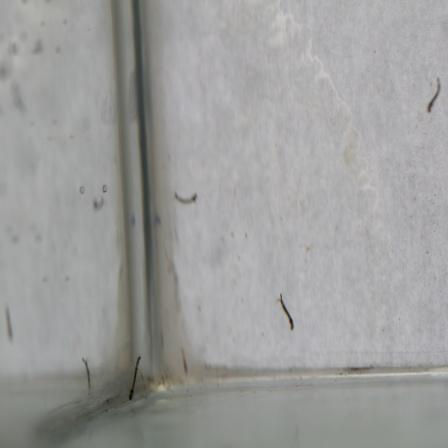Jentik-Nyamuk: (125, 352, 143, 402), (424, 76, 443, 116), (278, 294, 298, 331)
